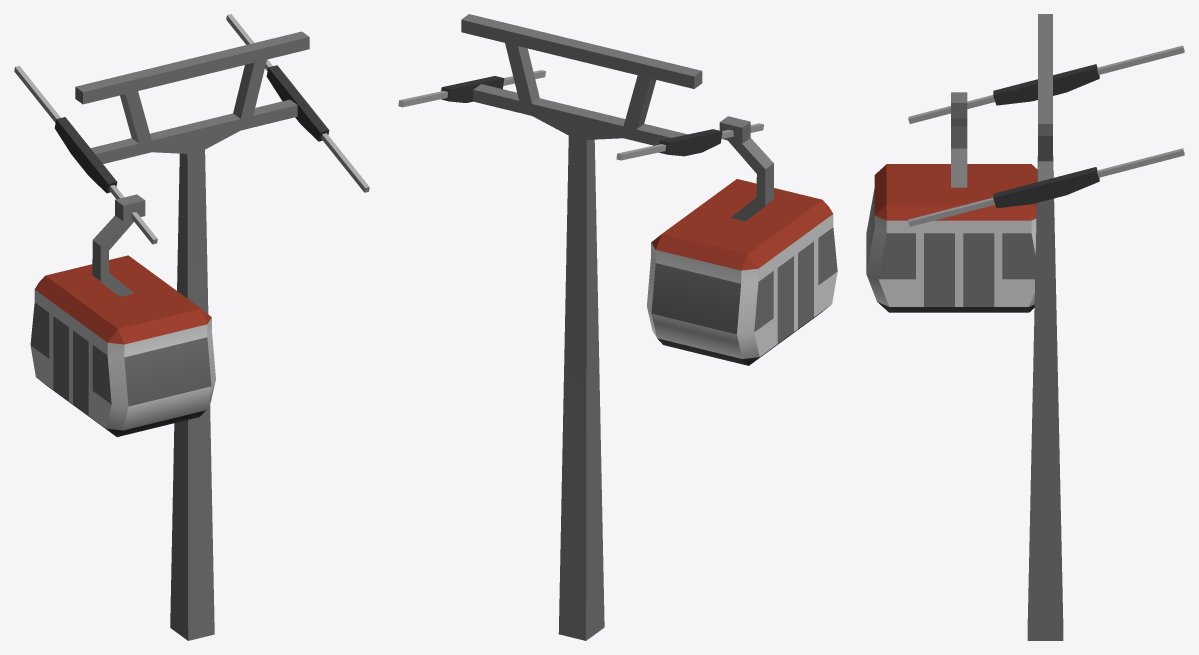
The model's file is ski_lift.glb.
The picture shows the model from 3 angles, left to right: view 1: azimuth 30°, elevation 25°; view 2: azimuth 150°, elevation 25°; view 3: azimuth 270°, elevation 25°; orthographic projection. The views are drawn at different scales.
Parts seen in each view (by area): view 1: ski_lift; view 2: ski_lift; view 3: ski_lift.
Part boxes in pixels (x1,y1,x2,y2): ski_lift: (14,14,369,640); ski_lift: (398,14,837,640); ski_lift: (866,14,1184,640).
Bounding box in the file's own units: 1.46 × 2.86 × 1.46.
